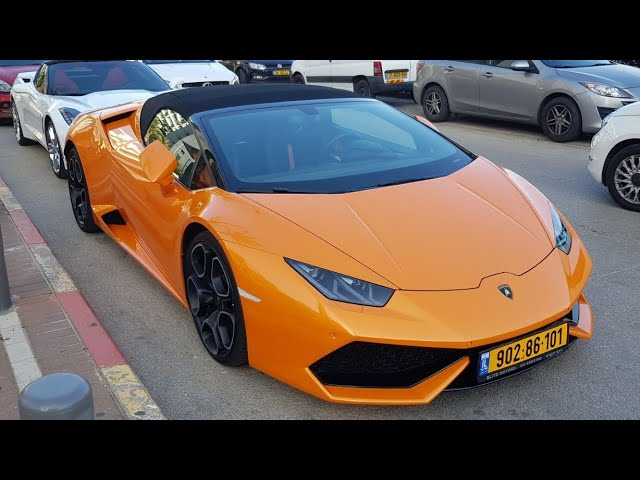licence: (478, 322, 570, 383)
